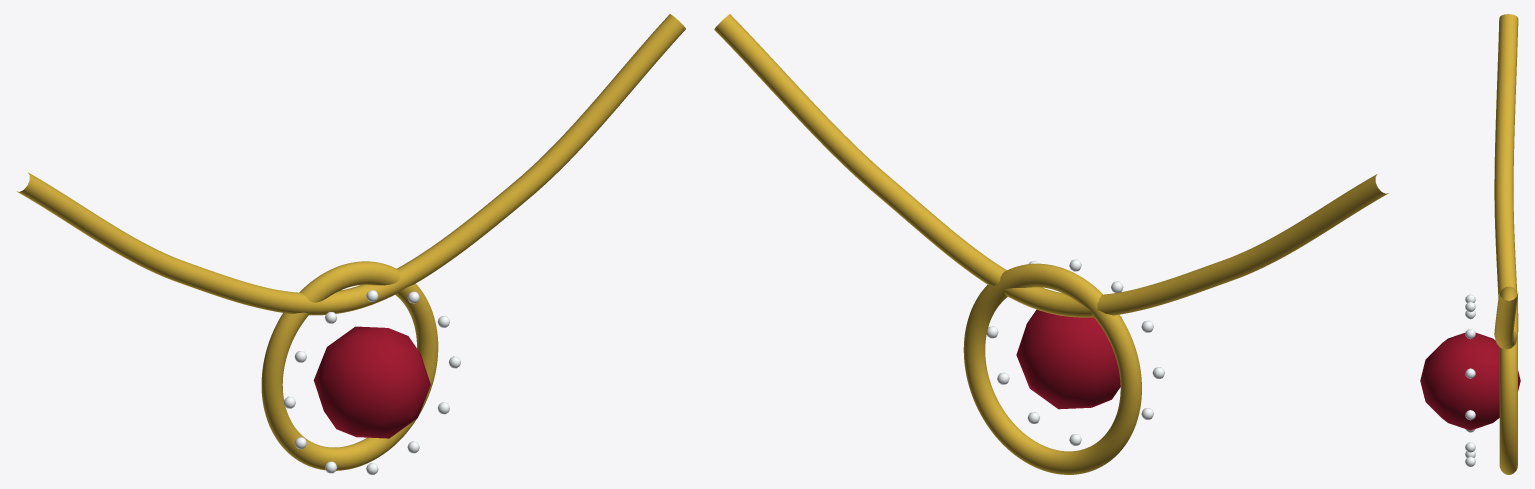
The model's file is amara-ruby-collar.glb.
3 renders of one model, left to right at view 1: azimuth 30°, elevation 25°; view 2: azimuth 150°, elevation 25°; view 3: azimuth 270°, elevation 25°, orthographic. The views are drawn at different scales.
Parts seen in each view (by area): view 1: chain, pendant_gem, pendant_frame; view 2: chain, pendant_frame, pendant_gem; view 3: chain, pendant_gem, pendant_frame.
Part boxes in pixels (x1,y1,x2,y2): chain: (16, 14, 685, 315); pendant_gem: (313, 326, 430, 438); pendant_frame: (261, 261, 438, 470); chain: (714, 14, 1388, 317); pendant_frame: (963, 263, 1141, 474); pendant_gem: (1016, 309, 1121, 409); chain: (1494, 14, 1518, 349); pendant_gem: (1420, 333, 1520, 430); pendant_frame: (1499, 286, 1517, 474).
Size of the model in its own units: 2.75 by 1.47 by 0.42.
